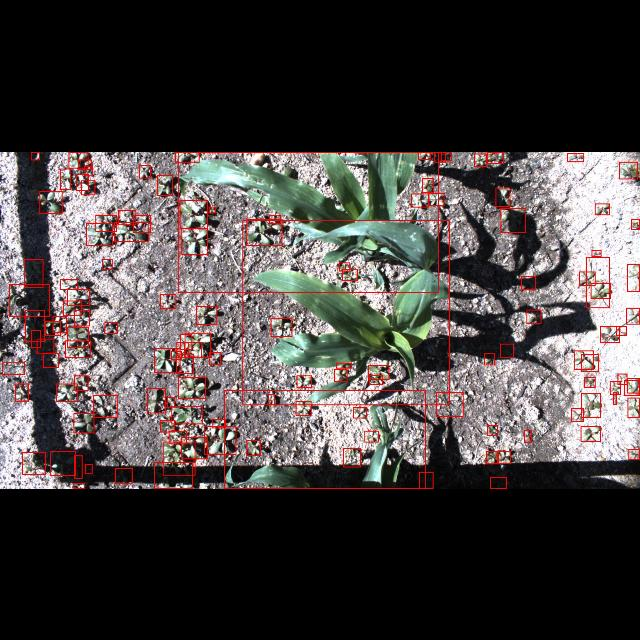crop: (242, 220, 450, 404), (178, 152, 438, 292), (224, 390, 426, 488)
weed: (9, 284, 49, 316), (586, 257, 610, 307), (163, 442, 195, 474), (246, 218, 282, 246), (154, 462, 192, 488), (204, 426, 236, 454), (180, 199, 208, 227), (114, 221, 148, 241), (50, 450, 76, 476), (182, 228, 208, 254), (185, 332, 211, 358), (436, 392, 464, 416), (154, 348, 180, 372), (500, 207, 526, 231), (86, 222, 112, 245), (178, 378, 206, 398), (26, 310, 44, 340), (172, 406, 202, 424), (23, 259, 42, 287), (93, 395, 117, 417), (22, 452, 46, 474), (181, 438, 207, 458), (40, 190, 62, 212), (65, 340, 91, 358), (147, 388, 165, 412), (582, 393, 600, 417), (68, 327, 88, 348), (270, 318, 292, 337), (74, 413, 94, 433), (56, 383, 78, 401), (574, 349, 594, 368), (197, 306, 217, 324), (618, 160, 638, 178), (176, 353, 194, 373), (67, 289, 89, 305), (95, 214, 116, 230), (344, 448, 361, 467), (68, 151, 88, 167), (157, 174, 173, 194), (591, 282, 611, 298), (600, 326, 620, 342), (627, 264, 639, 290), (134, 214, 150, 232), (582, 354, 598, 372), (62, 300, 82, 314), (369, 365, 389, 379), (581, 426, 601, 440), (496, 187, 510, 206), (2, 362, 24, 374), (74, 309, 90, 325), (116, 468, 132, 484), (36, 338, 54, 352), (118, 210, 136, 224), (184, 342, 202, 356), (175, 151, 199, 161), (169, 431, 187, 444), (160, 294, 176, 308), (53, 316, 67, 332), (247, 440, 261, 456), (520, 275, 536, 289), (579, 271, 595, 285), (626, 307, 640, 323), (624, 380, 640, 394), (419, 472, 433, 488), (428, 192, 444, 205), (412, 192, 428, 205), (16, 384, 28, 401), (60, 168, 70, 188), (628, 397, 638, 417), (81, 180, 95, 194), (74, 376, 88, 390), (44, 353, 58, 367), (46, 321, 60, 335), (296, 401, 310, 415), (527, 309, 541, 323), (76, 173, 88, 189), (74, 454, 82, 478), (296, 375, 312, 387), (342, 268, 358, 280), (594, 202, 610, 214), (61, 279, 78, 289), (180, 334, 192, 348), (176, 342, 188, 356), (161, 420, 175, 432), (334, 369, 348, 381), (500, 344, 514, 356), (474, 152, 486, 166), (627, 378, 639, 392), (571, 408, 583, 422), (490, 478, 506, 488), (487, 152, 503, 162), (365, 431, 379, 442), (422, 177, 433, 191), (32, 329, 40, 347), (486, 451, 498, 463), (498, 451, 510, 463), (78, 159, 92, 169), (104, 322, 118, 332), (140, 165, 150, 178), (212, 418, 225, 428), (610, 381, 620, 394), (568, 153, 584, 161), (354, 407, 366, 417), (370, 374, 382, 384), (628, 449, 640, 459), (584, 377, 596, 387), (210, 352, 220, 364), (434, 151, 446, 161), (102, 258, 112, 268), (171, 350, 181, 360), (487, 425, 497, 435), (485, 354, 495, 364), (336, 362, 352, 368), (524, 430, 532, 442), (338, 262, 349, 270), (84, 165, 92, 175), (270, 215, 280, 223), (631, 219, 639, 229), (616, 326, 626, 334), (618, 374, 626, 384), (441, 152, 451, 160), (418, 152, 430, 158), (168, 397, 175, 407), (74, 482, 85, 488), (31, 151, 39, 159), (86, 464, 92, 474), (269, 394, 275, 404), (592, 250, 600, 256), (209, 206, 215, 212), (614, 392, 616, 404)
